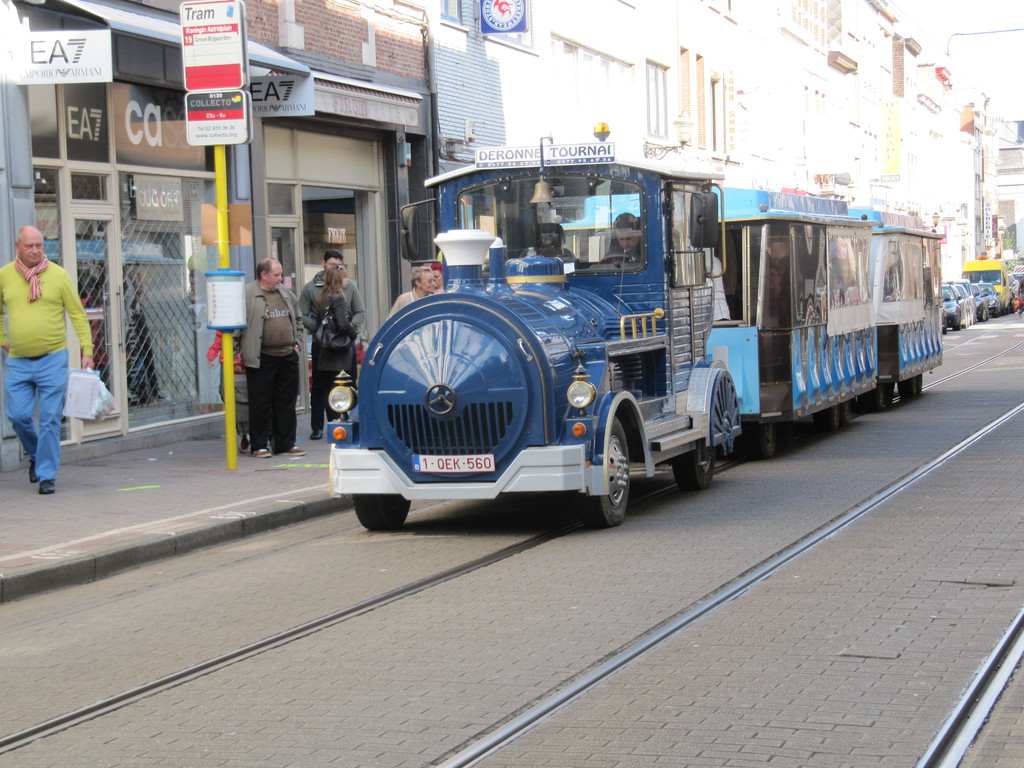Car: (956, 279, 977, 321), (943, 287, 959, 332), (968, 282, 989, 315)
